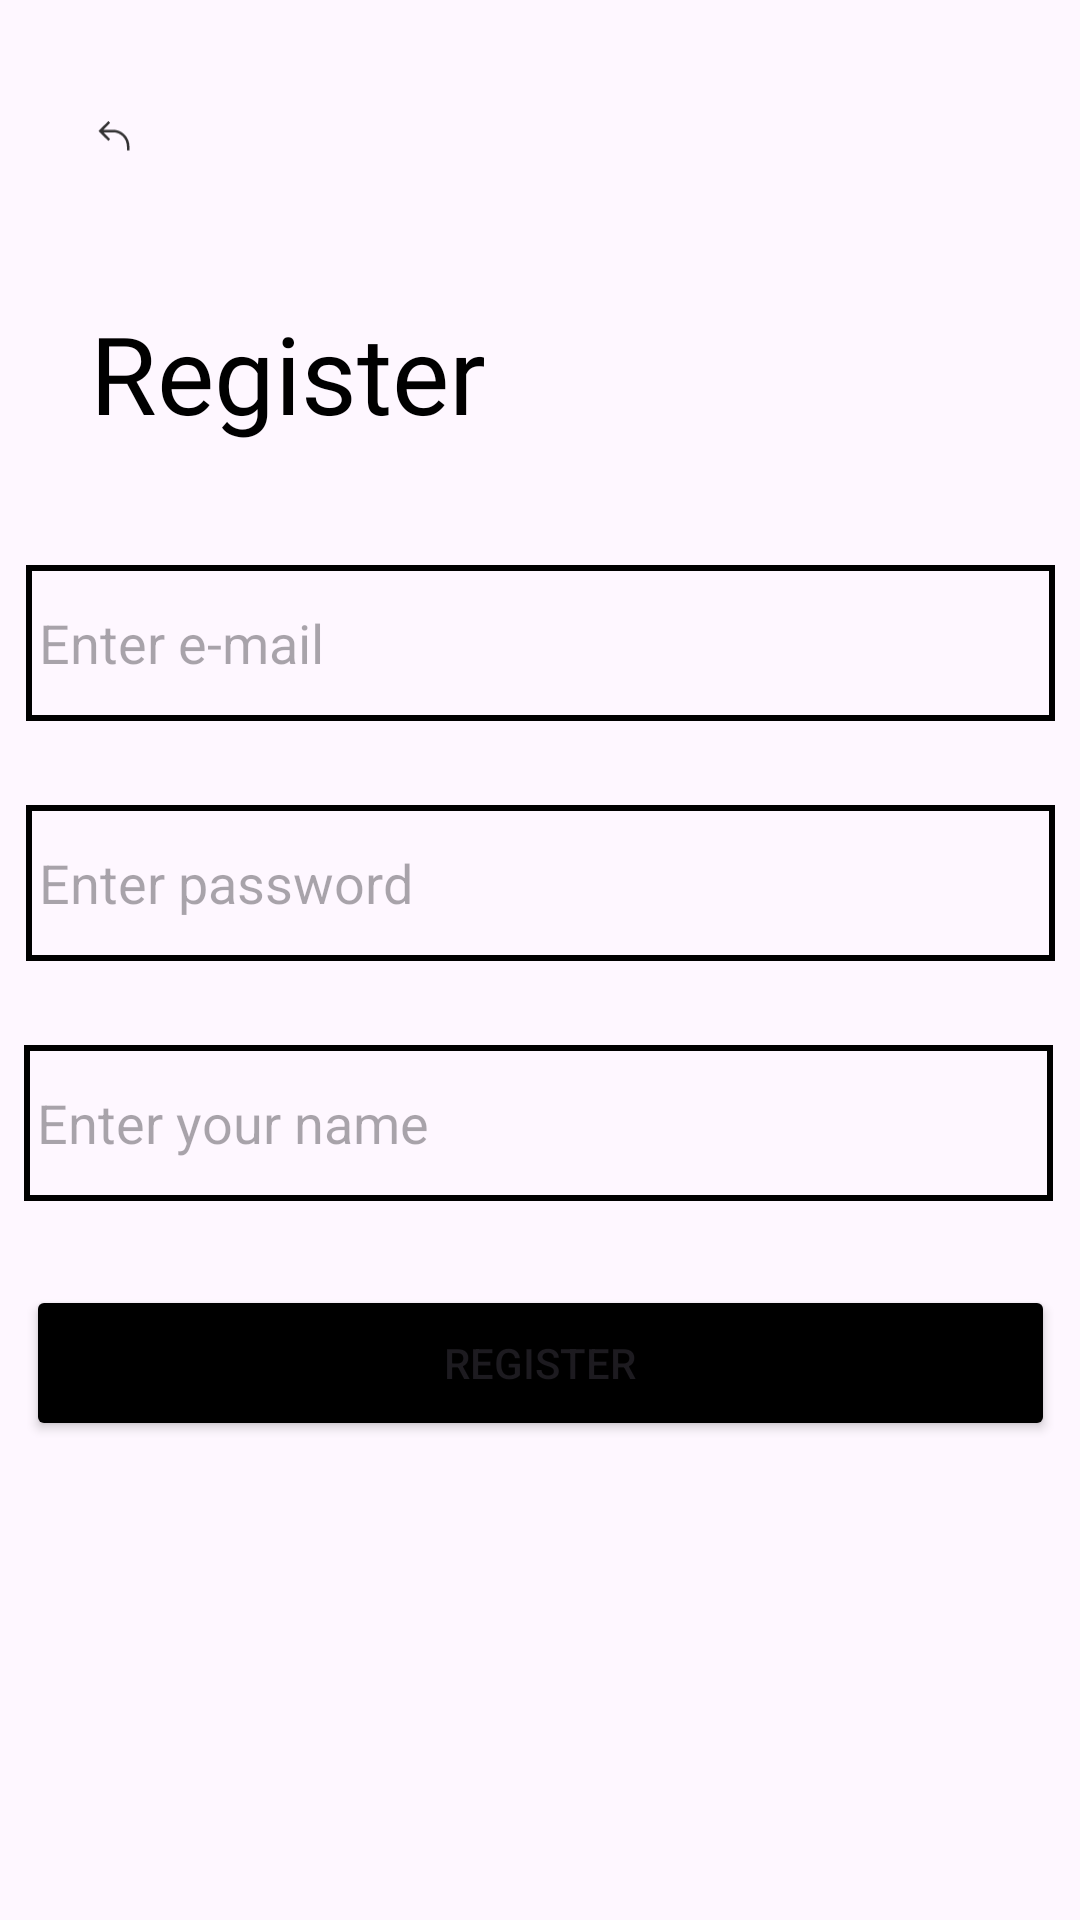

Screen size 1080w x 1920h. Icon name, then its box in pixels as (x1, y1, x2, y2):
back: (98, 121, 130, 151)
